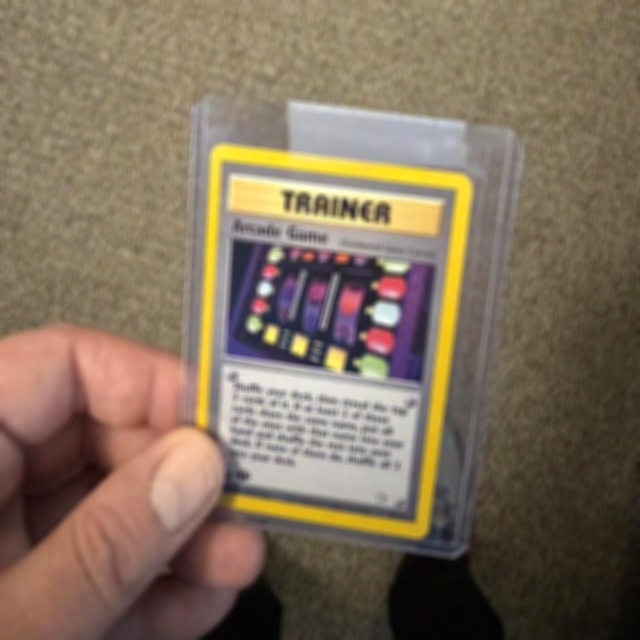card: (195, 142, 474, 540)
